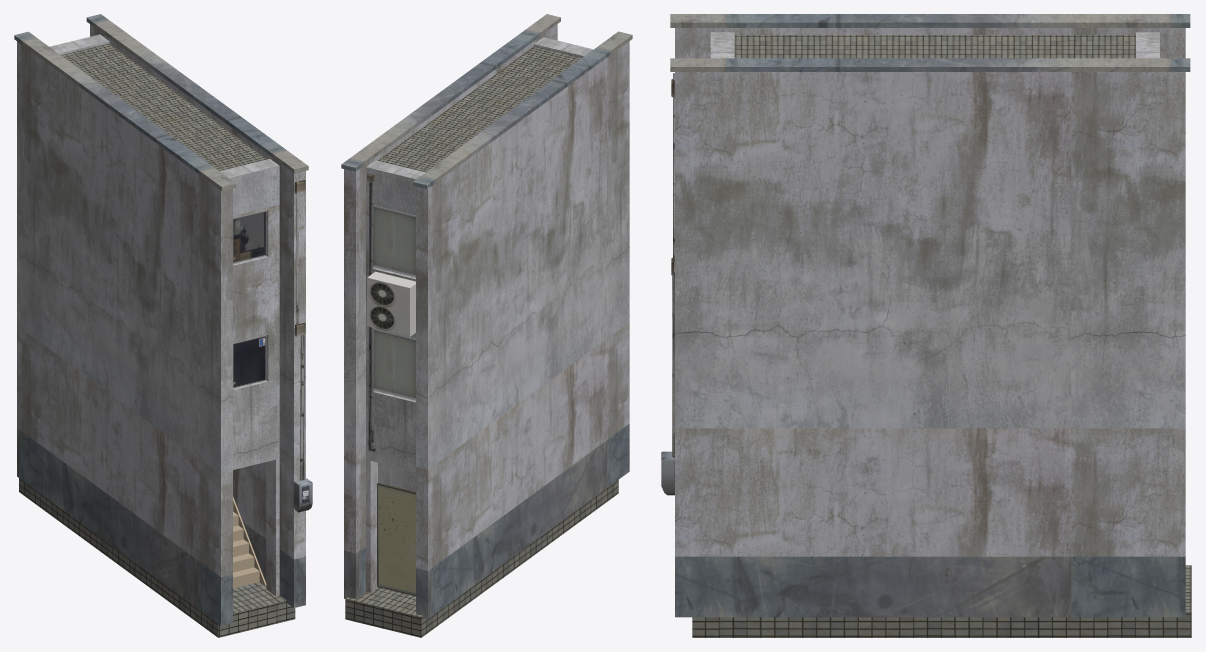
File: mallbil_s_b3.fbx
3 renders of one model, left to right at view 1: azimuth 30°, elevation 25°; view 2: azimuth 150°, elevation 25°; view 3: azimuth 270°, elevation 25°, orthographic. The views are drawn at different scales.
Parts seen in each view (by area): view 1: mallbil_s_b3; view 2: mallbil_s_b3; view 3: mallbil_s_b3.
Part boxes in pixels (<box>): mallbil_s_b3: <box>14,14,312,637</box>; mallbil_s_b3: <box>341,14,632,637</box>; mallbil_s_b3: <box>661,14,1191,637</box>.
Bounding box in the file's own units: 193 × 811 × 968.
Materials: 6 (6 with a texture image).
